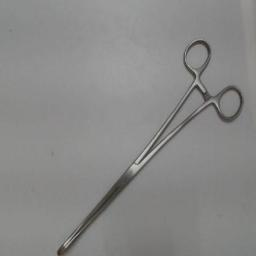Sponge Forceps: (48, 30, 248, 256)
